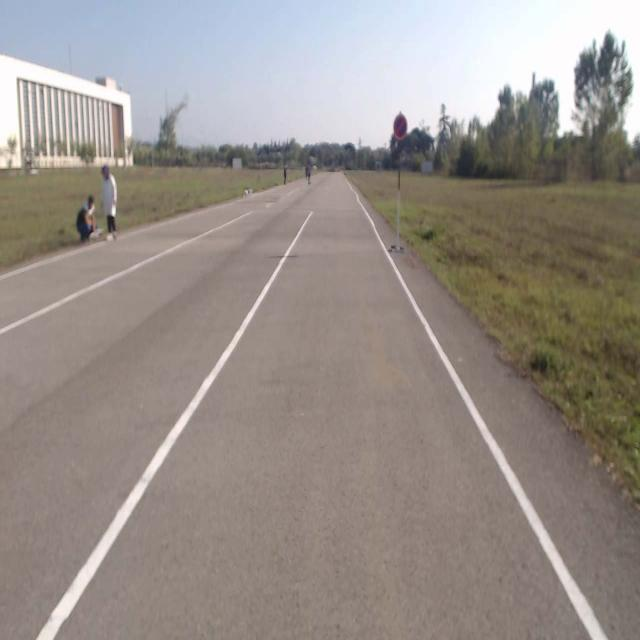parkyasak: (394, 115, 408, 138)
